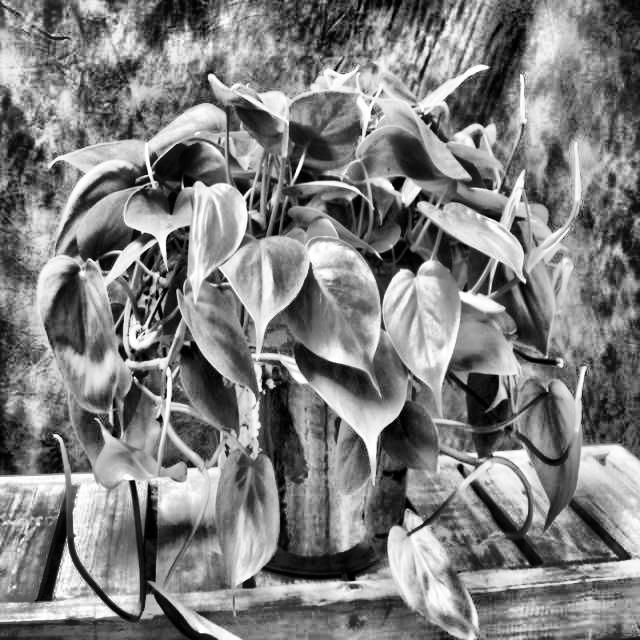plants: (55, 90, 585, 602)
